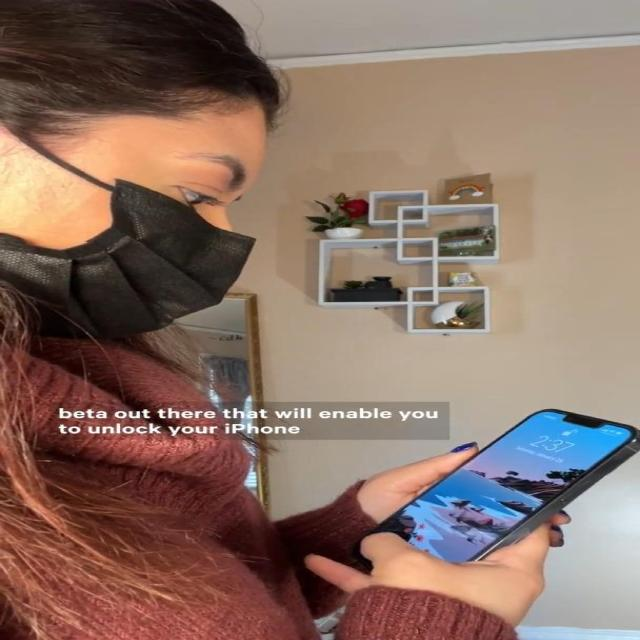Mask: (5, 90, 265, 337)
